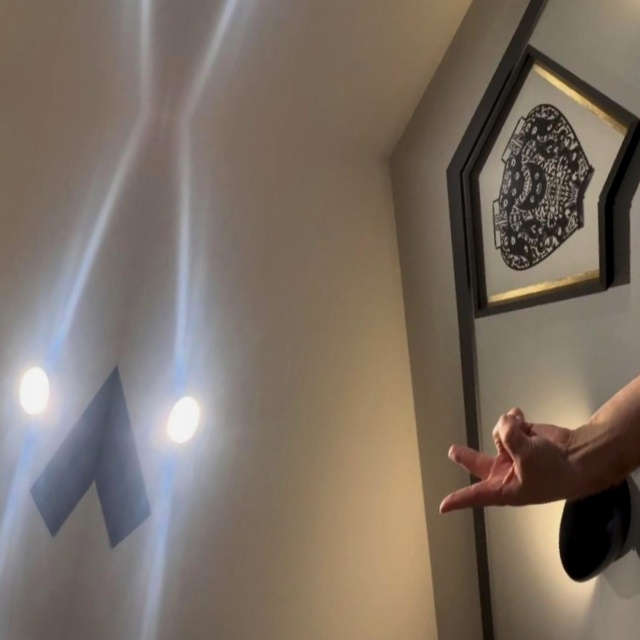Scissors: (432, 397, 584, 543)
